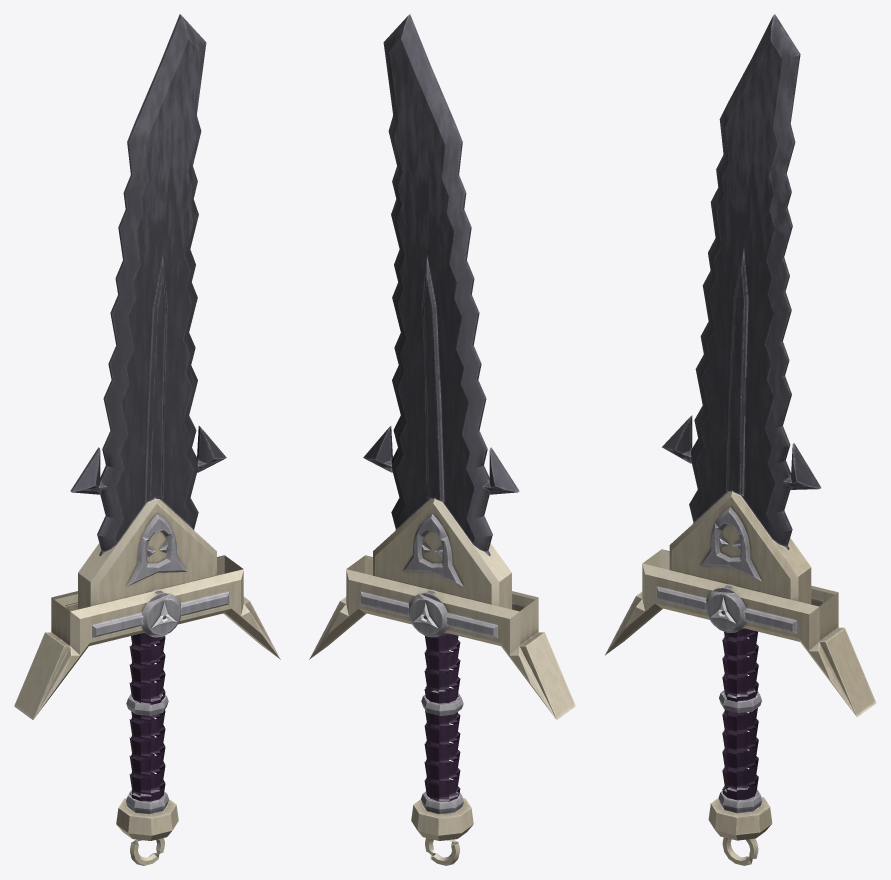
File: Ossuary.fbx
3 views of the same model, side by side, from view 1: azimuth 30°, elevation 25°; view 2: azimuth 150°, elevation 25°; view 3: azimuth 330°, elevation 25° (orthographic).
Visible parts, largest first — view 1: Ossuary_Body; view 2: Ossuary_Body; view 3: Ossuary_Body.
Boxes of the visible parts, x1,y1,x2,y2 form: Ossuary_Body: (14, 14, 280, 865); Ossuary_Body: (309, 14, 575, 865); Ossuary_Body: (605, 14, 876, 865).
Size of the model in its own units: 1.8 by 5.85 by 0.45.
